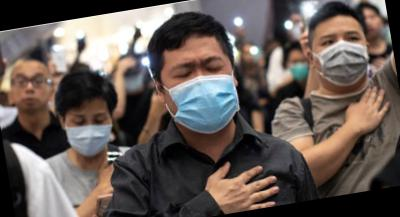with_mask: (159, 50, 241, 138), (307, 22, 374, 94), (61, 106, 117, 162), (124, 71, 149, 97), (288, 53, 310, 81)
without_mask: (9, 66, 53, 115), (360, 9, 385, 42)
